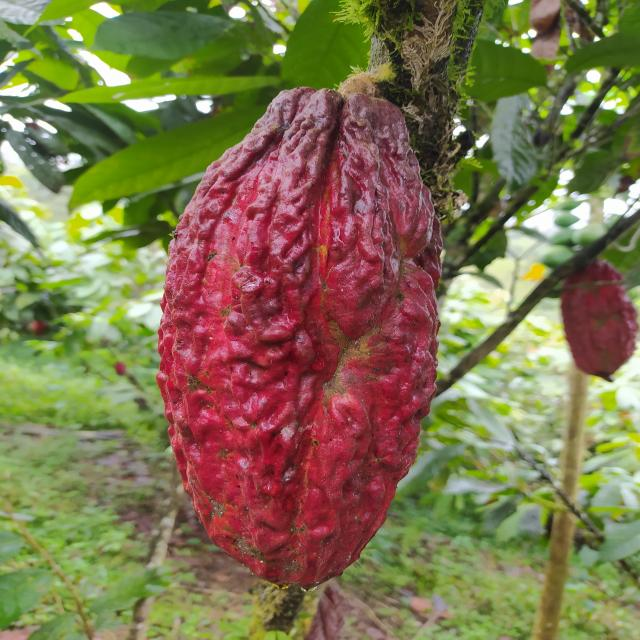Sana: (158, 84, 443, 595), (556, 260, 638, 384)
